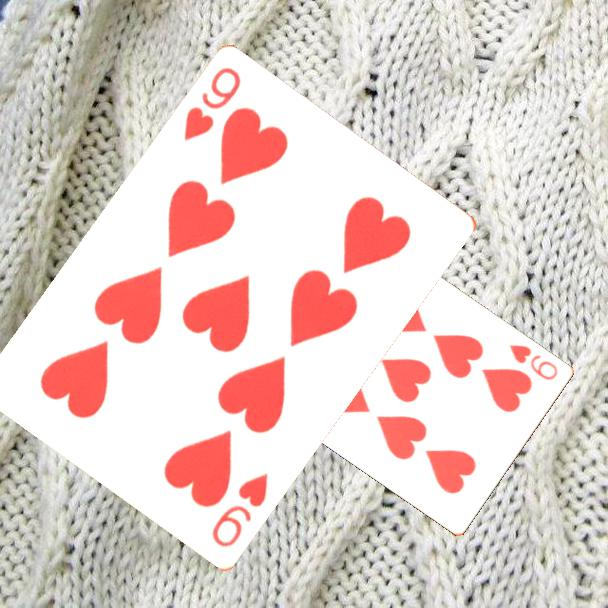h09: (208, 469, 272, 551), (180, 64, 244, 145), (506, 341, 561, 383)
